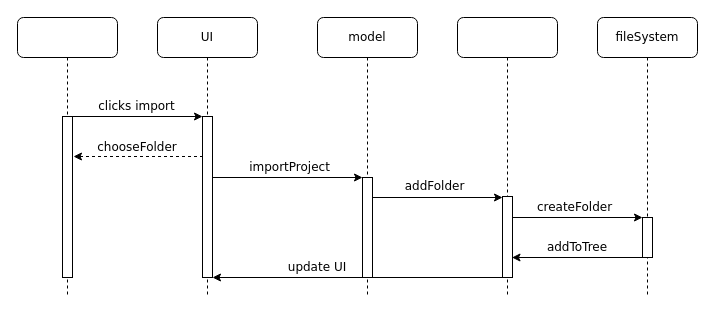
This 715x315 diagram has some shape labels left out. Here are the shapes that lost their labels. From the top down, the box of each, then its label:
(16, 16, 118, 298): User
(456, 16, 558, 298): fileTree
